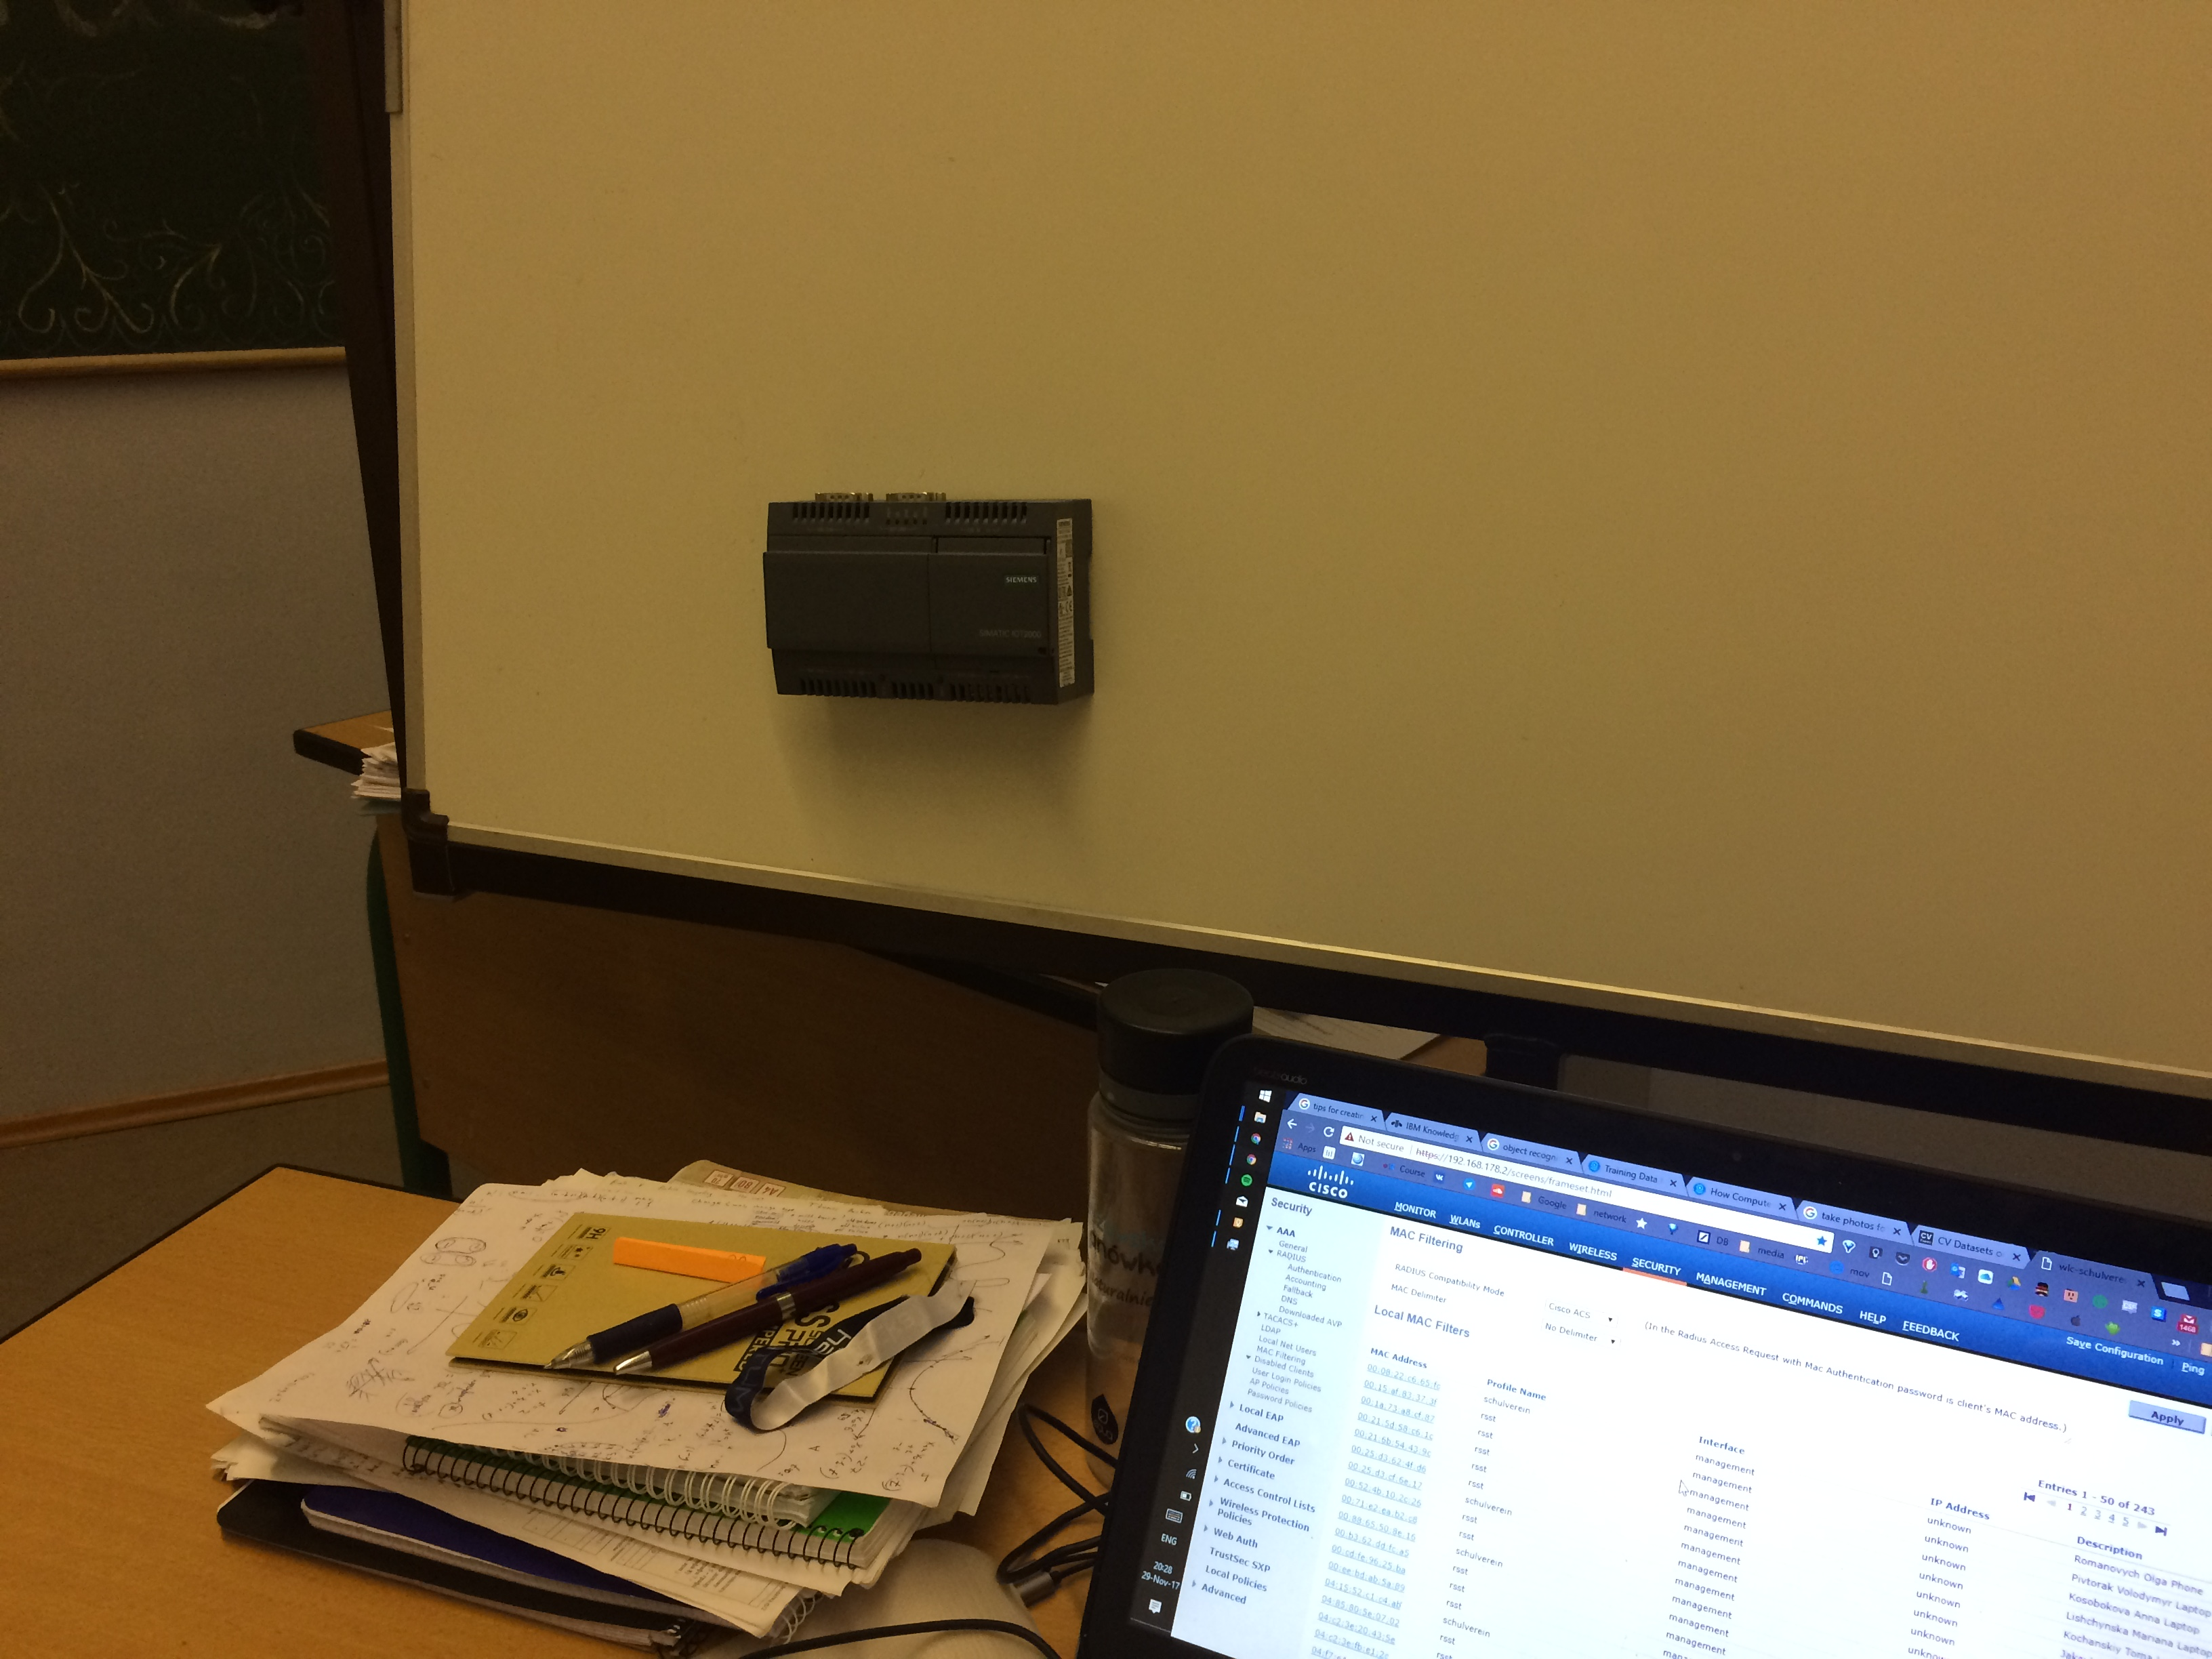iot2000: (761, 484, 1097, 711)
